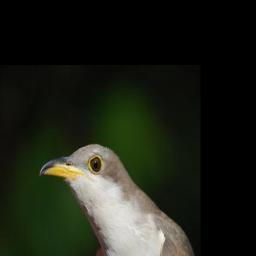Cuckoo: (40, 142, 201, 256)
